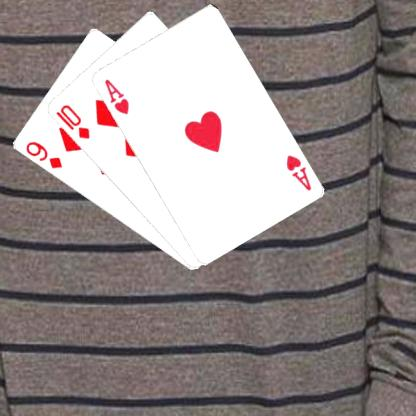10D: (53, 102, 91, 140)
9D: (22, 138, 63, 170)
AH: (282, 152, 312, 192), (101, 76, 130, 116)
